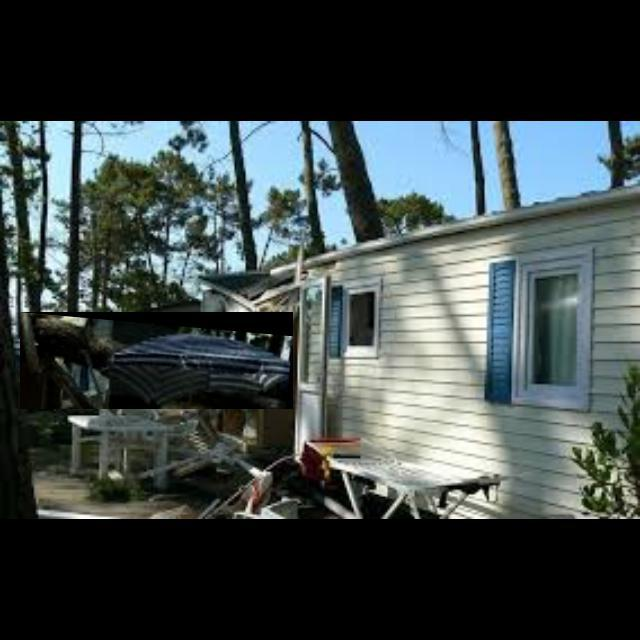fallen_tree: (20, 312, 294, 410)
